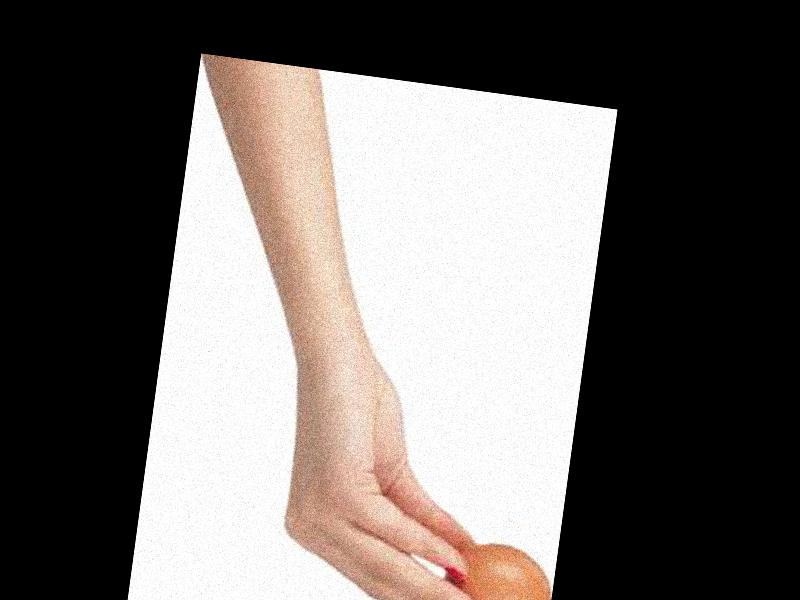Eggs: (440, 537, 555, 600)
